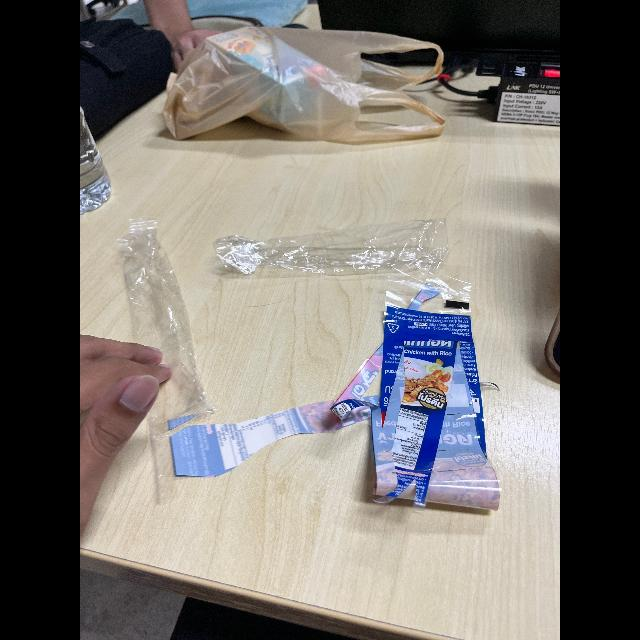scrap_plastic: (309, 284, 507, 540), (204, 194, 461, 296), (112, 230, 216, 420)
